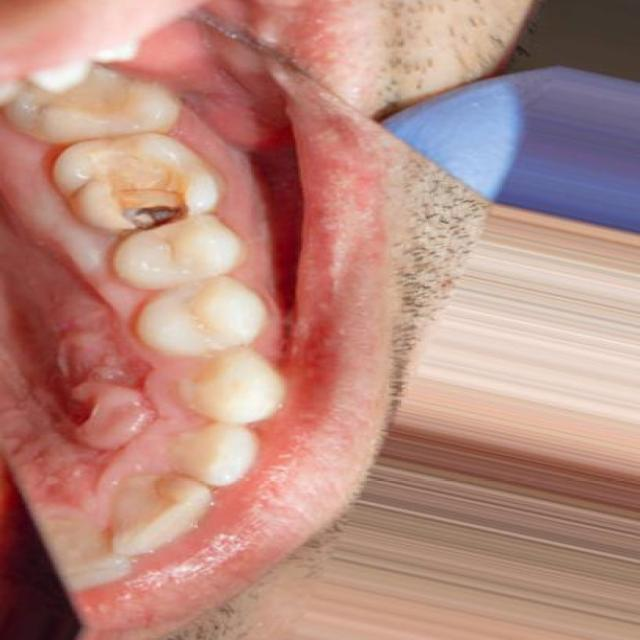caries: (72, 154, 204, 234)
